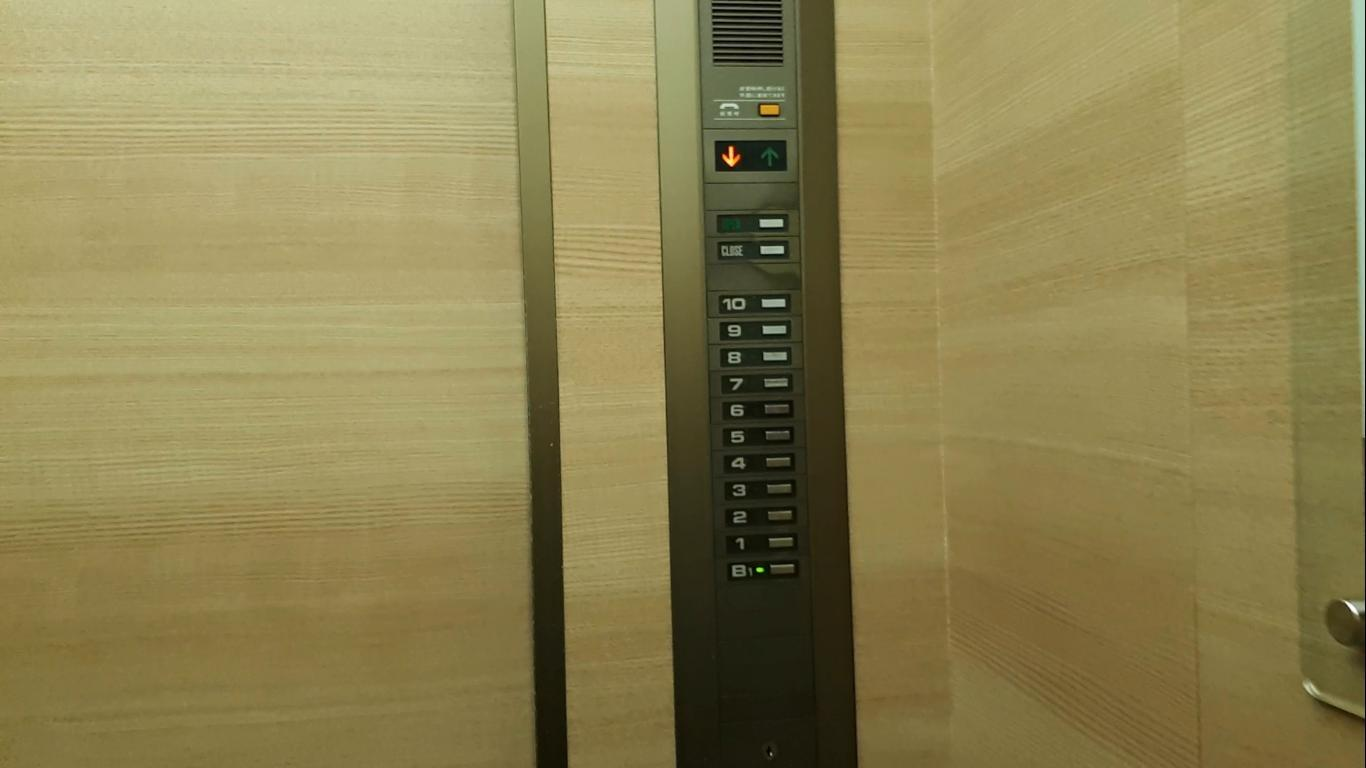1: (722, 530, 798, 555)
10: (713, 290, 792, 315)
2: (720, 501, 798, 527)
3: (720, 476, 798, 501)
4: (718, 451, 797, 474)
5: (718, 425, 796, 448)
6: (717, 397, 794, 421)
7: (716, 370, 795, 395)
8: (715, 343, 795, 368)
9: (714, 317, 793, 342)
B1: (724, 557, 798, 580)
blur: (712, 210, 791, 234)
call: (710, 96, 745, 120)
close: (713, 236, 791, 261)
unknown: (755, 100, 782, 117)
